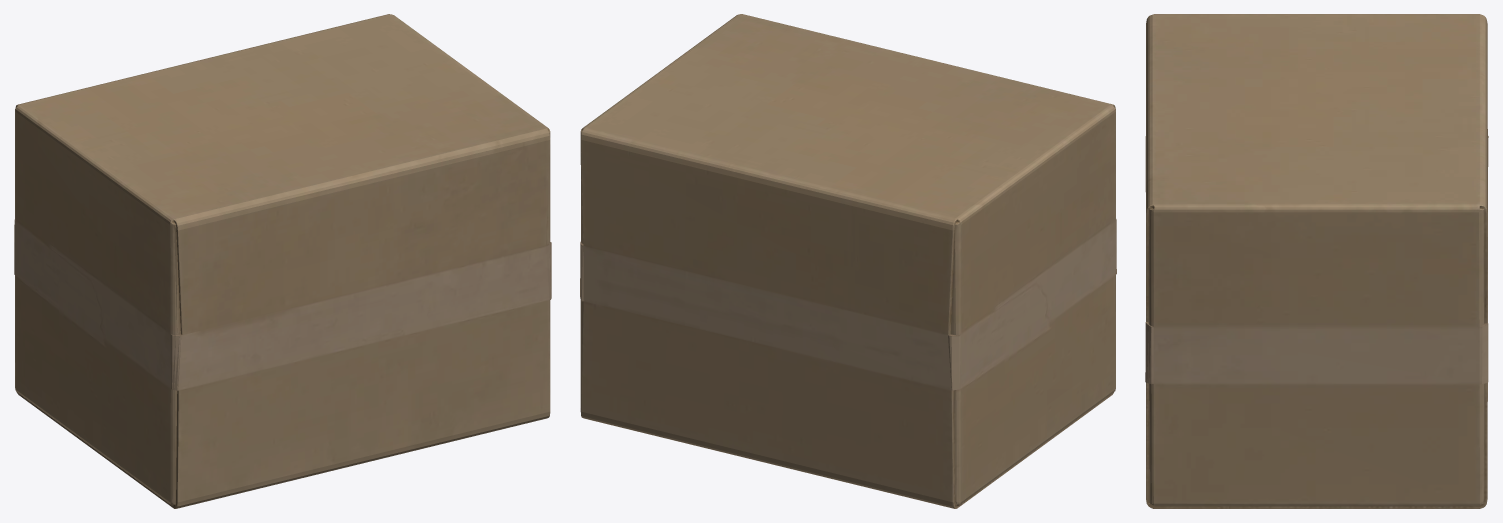
File: Cardbox_A1.glb
The picture shows the model from 3 angles, left to right: view 1: azimuth 30°, elevation 25°; view 2: azimuth 150°, elevation 25°; view 3: azimuth 270°, elevation 25°; orthographic projection. The views are drawn at different scales.
Visible parts, largest first — view 1: Cardboard_A_0; view 2: Cardboard_A_0; view 3: Cardboard_A_0.
Boxes of the visible parts, left/top/right/bottom form: Cardboard_A_0: left=14, top=14, right=551, bottom=508; Cardboard_A_0: left=580, top=14, right=1116, bottom=508; Cardboard_A_0: left=1145, top=14, right=1488, bottom=508.
Bounding box in the file's own units: 0.6994 × 0.5099 × 0.5211.
1 material, 1 textured.
